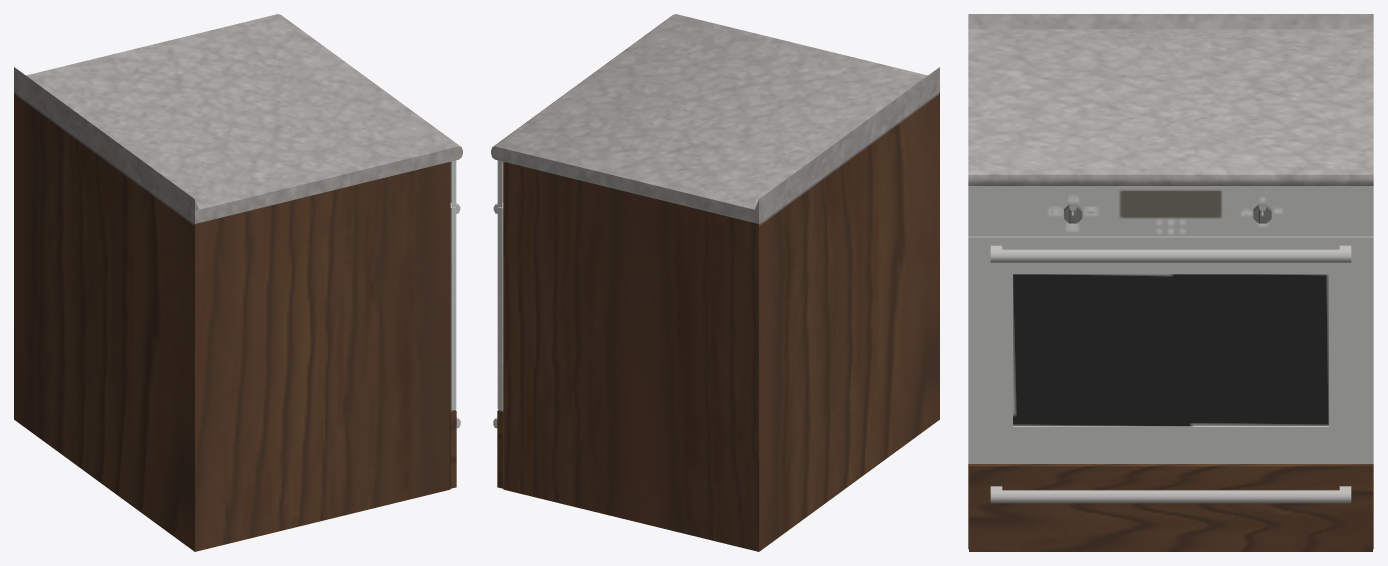
File: CabinetWithOven.obj
3 renders of one model, left to right at view 1: azimuth 30°, elevation 25°; view 2: azimuth 150°, elevation 25°; view 3: azimuth 270°, elevation 25°, orthographic. The views are drawn at different scales.
Parts seen in each view (by area): view 1: KitchenCabinetWithOven; view 2: KitchenCabinetWithOven; view 3: KitchenCabinetWithOven.
Part boxes in pixels (x1=…): KitchenCabinetWithOven: x1=14, y1=14, x2=462, y2=551; KitchenCabinetWithOven: x1=491, y1=14, x2=939, y2=551; KitchenCabinetWithOven: x1=968, y1=14, x2=1373, y2=551.
Bounding box in the file's own units: 0.7043 × 0.8606 × 0.8.
